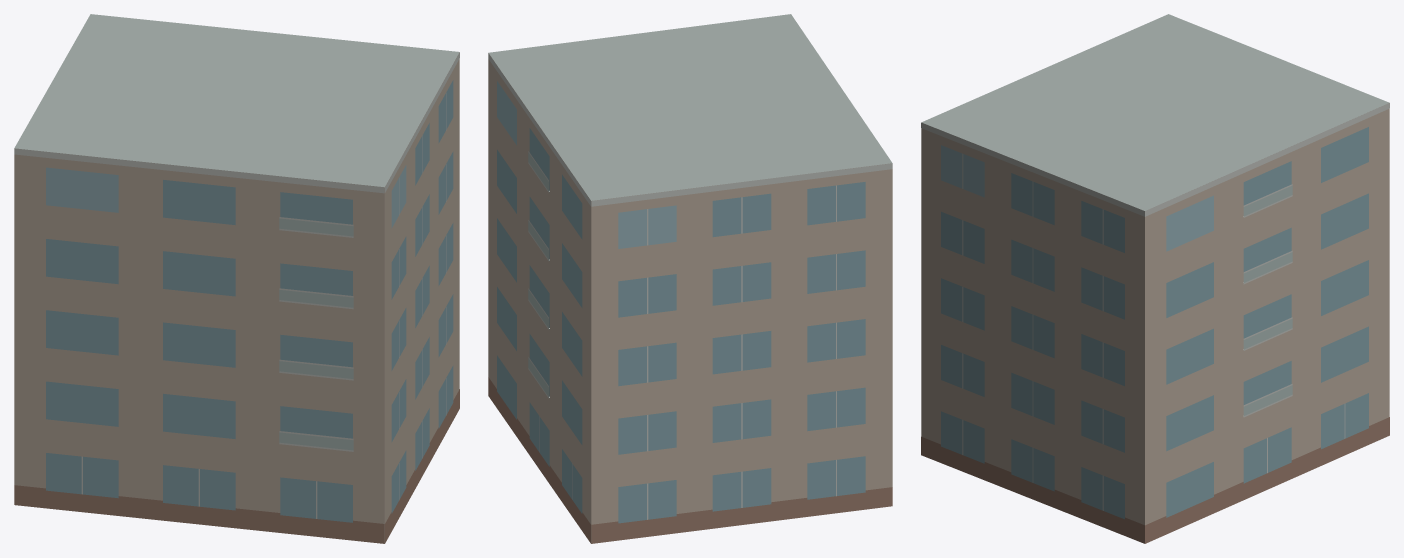
The model's file is survey-upis-32607801.glb.
3 views of the same model, side by side, from view 1: azimuth 30°, elevation 25°; view 2: azimuth 150°, elevation 25°; view 3: azimuth 270°, elevation 25° (orthographic). The views are drawn at different scales.
Parts seen in each view (by area): view 1: survey-upis-32607801.tmp; view 2: survey-upis-32607801.tmp; view 3: survey-upis-32607801.tmp.
Part boxes in pixels (bbox=[...]): survey-upis-32607801.tmp: bbox=[14, 14, 459, 543]; survey-upis-32607801.tmp: bbox=[488, 14, 892, 543]; survey-upis-32607801.tmp: bbox=[921, 14, 1389, 543].
Size of the model in its own units: 17.99 by 14.15 by 18.06.
